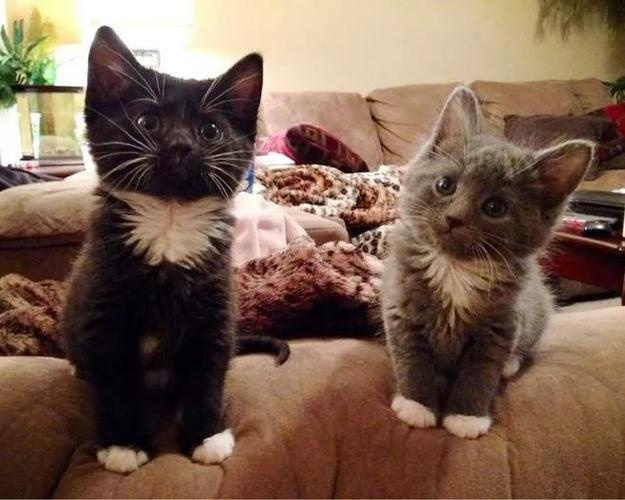cat: (60, 27, 264, 472), (377, 86, 595, 440)
